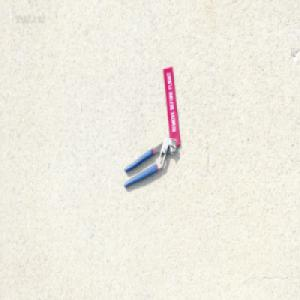Label: (162, 65, 181, 147)
Pliers: (123, 136, 177, 190)
